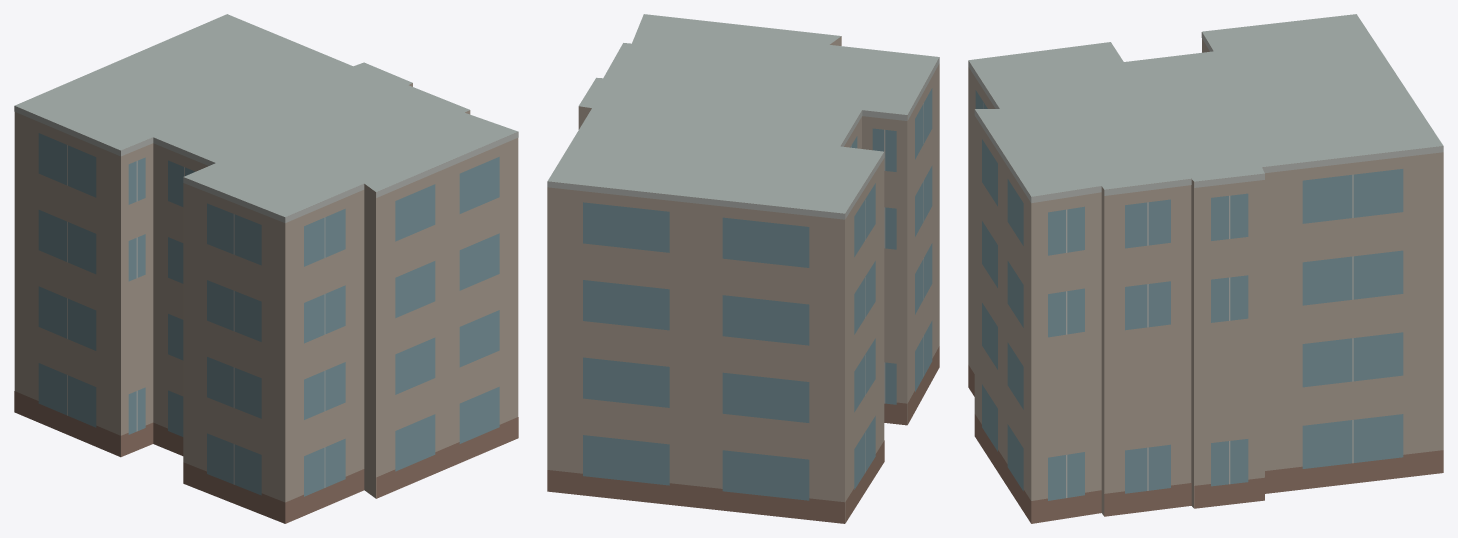
File: survey-upis-32534075.glb
The picture shows the model from 3 angles, left to right: view 1: azimuth 30°, elevation 25°; view 2: azimuth 150°, elevation 25°; view 3: azimuth 270°, elevation 25°; orthographic projection. The views are drawn at different scales.
Visible parts, largest first — view 1: survey-upis-32534075.tmp; view 2: survey-upis-32534075.tmp; view 3: survey-upis-32534075.tmp.
Boxes of the visible parts, x1,y1,x2,y2 form: survey-upis-32534075.tmp: (14,14,518,523); survey-upis-32534075.tmp: (547,14,939,523); survey-upis-32534075.tmp: (968,14,1443,523).
Bounding box in the file's own units: 15.12 × 12.6 × 16.61.
